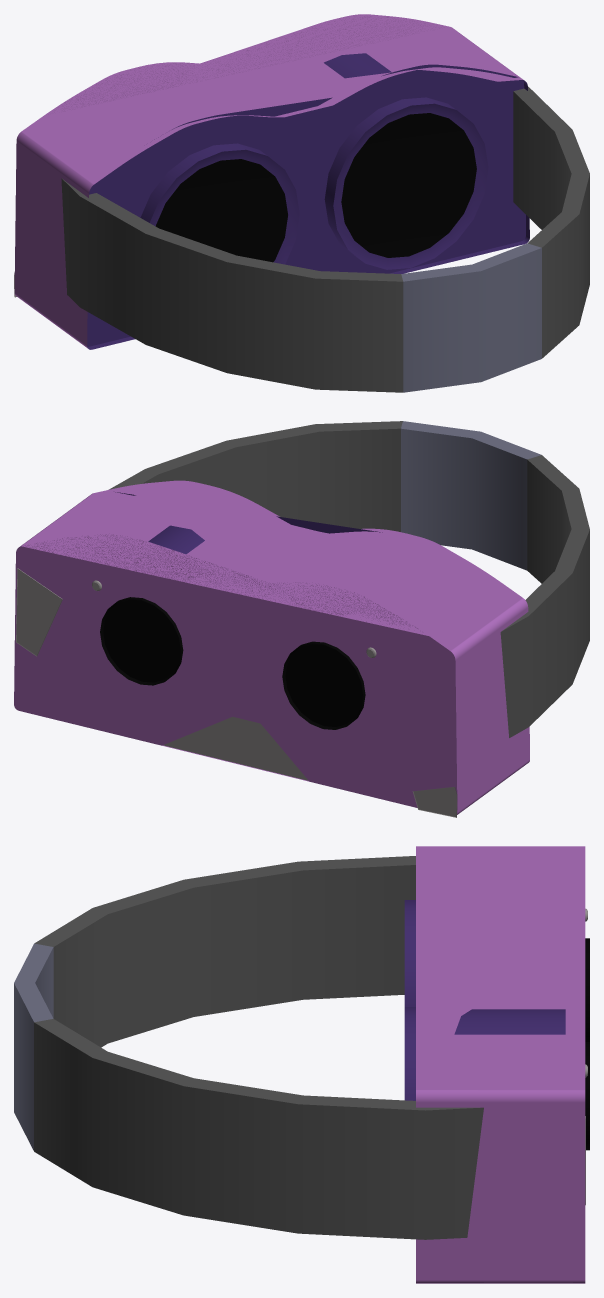
The model's file is RiggedHeadset.fbx.
3 renders of one model, top to bottom at view 1: azimuth 30°, elevation 25°; view 2: azimuth 150°, elevation 25°; view 3: azimuth 270°, elevation 25°, orthographic. The views are drawn at different scales.
Visible parts, largest first — view 1: pCylinder8; view 2: pCylinder8; view 3: pCylinder8.
Part boxes in pixels (left/top/right/bottom): pCylinder8: left=14, top=14, right=589, bottom=392; pCylinder8: left=14, top=421, right=589, bottom=817; pCylinder8: left=14, top=846, right=589, bottom=1283.
Bounding box in the file's own units: 3.87 × 1.67 × 3.7.
